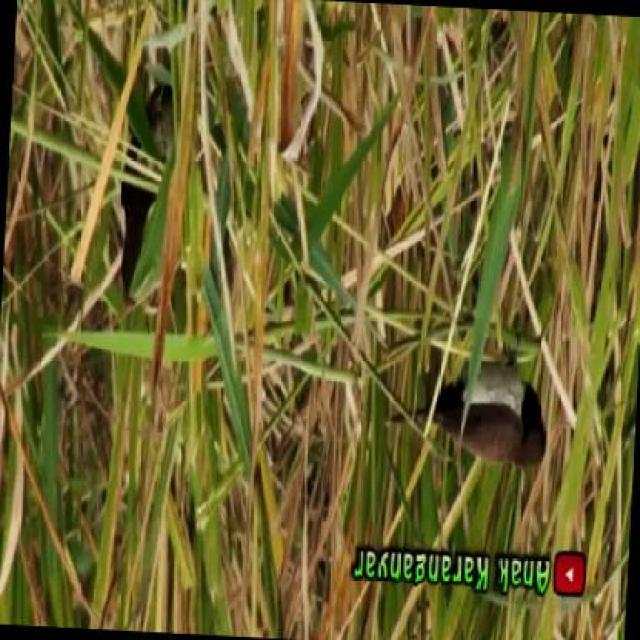Bird: (391, 355, 555, 473), (115, 74, 174, 308)
